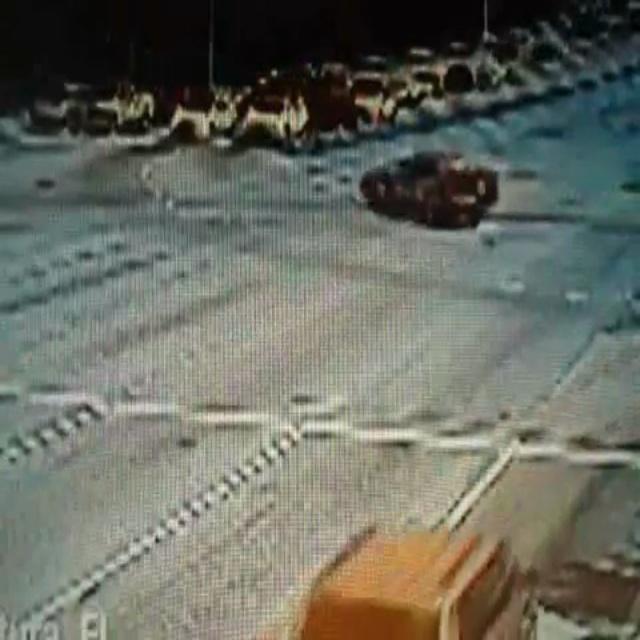acc: (348, 138, 498, 232)
